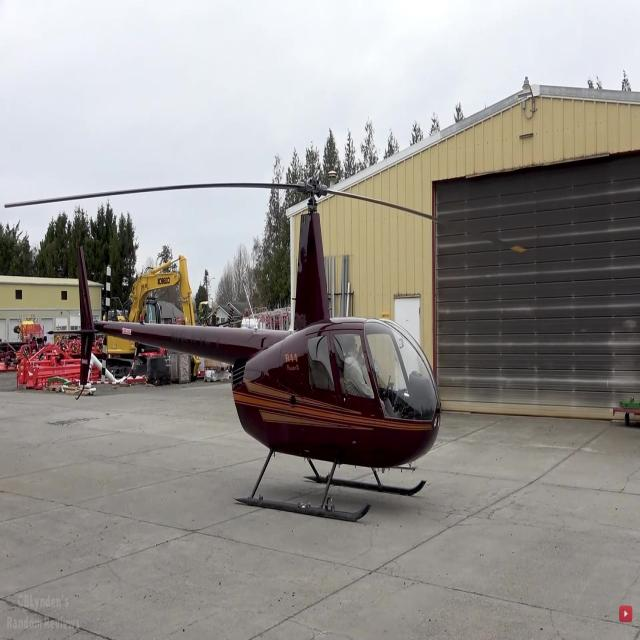CIV_HELO: (45, 177, 443, 528)
